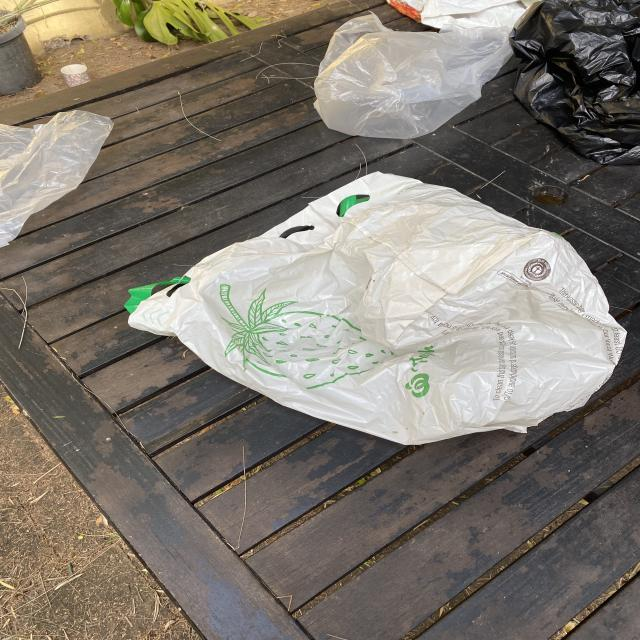bag: (125, 170, 628, 447), (314, 14, 514, 137), (512, 0, 640, 167), (0, 108, 116, 247)
cup: (60, 64, 90, 88)
